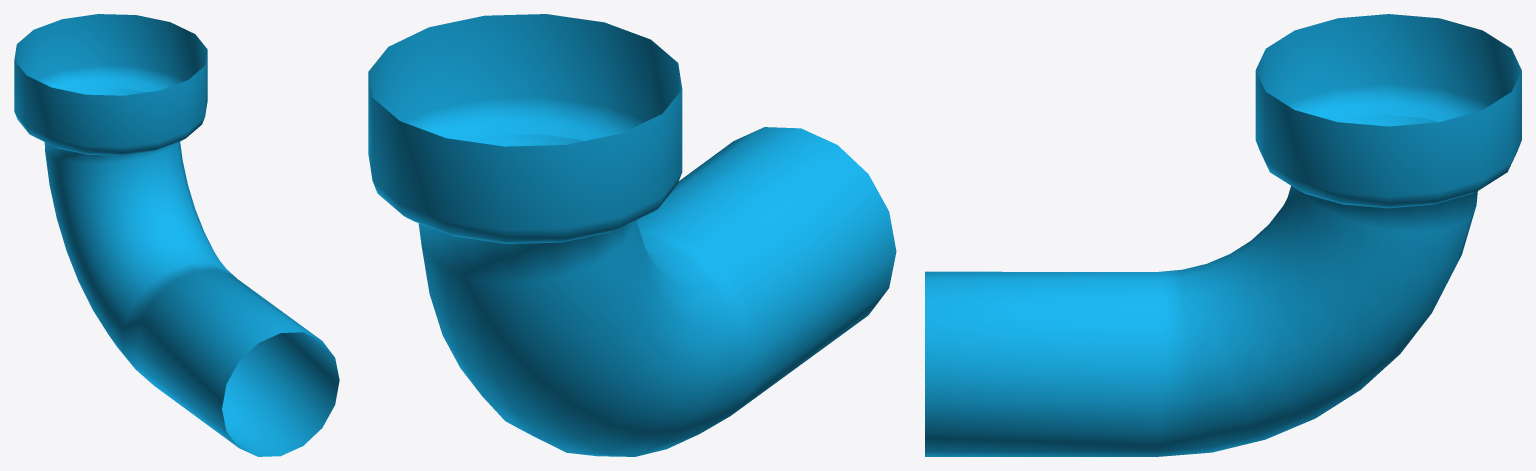
The model's file is pipe_angle_short_cap.gltf.
3 views of the same model, side by side, from view 1: azimuth 30°, elevation 25°; view 2: azimuth 150°, elevation 25°; view 3: azimuth 270°, elevation 25° (orthographic). The views are drawn at different scales.
Parts seen in each view (by area): view 1: pipe_angle_short_cap; view 2: pipe_angle_short_cap; view 3: pipe_angle_short_cap.
Part boxes in pixels (x1,y1,x2,y2): pipe_angle_short_cap: (14,14,339,456); pipe_angle_short_cap: (368,14,896,456); pipe_angle_short_cap: (925,14,1521,456).
Size of the model in its own units: 0.5742 by 0.9 by 1.29.
